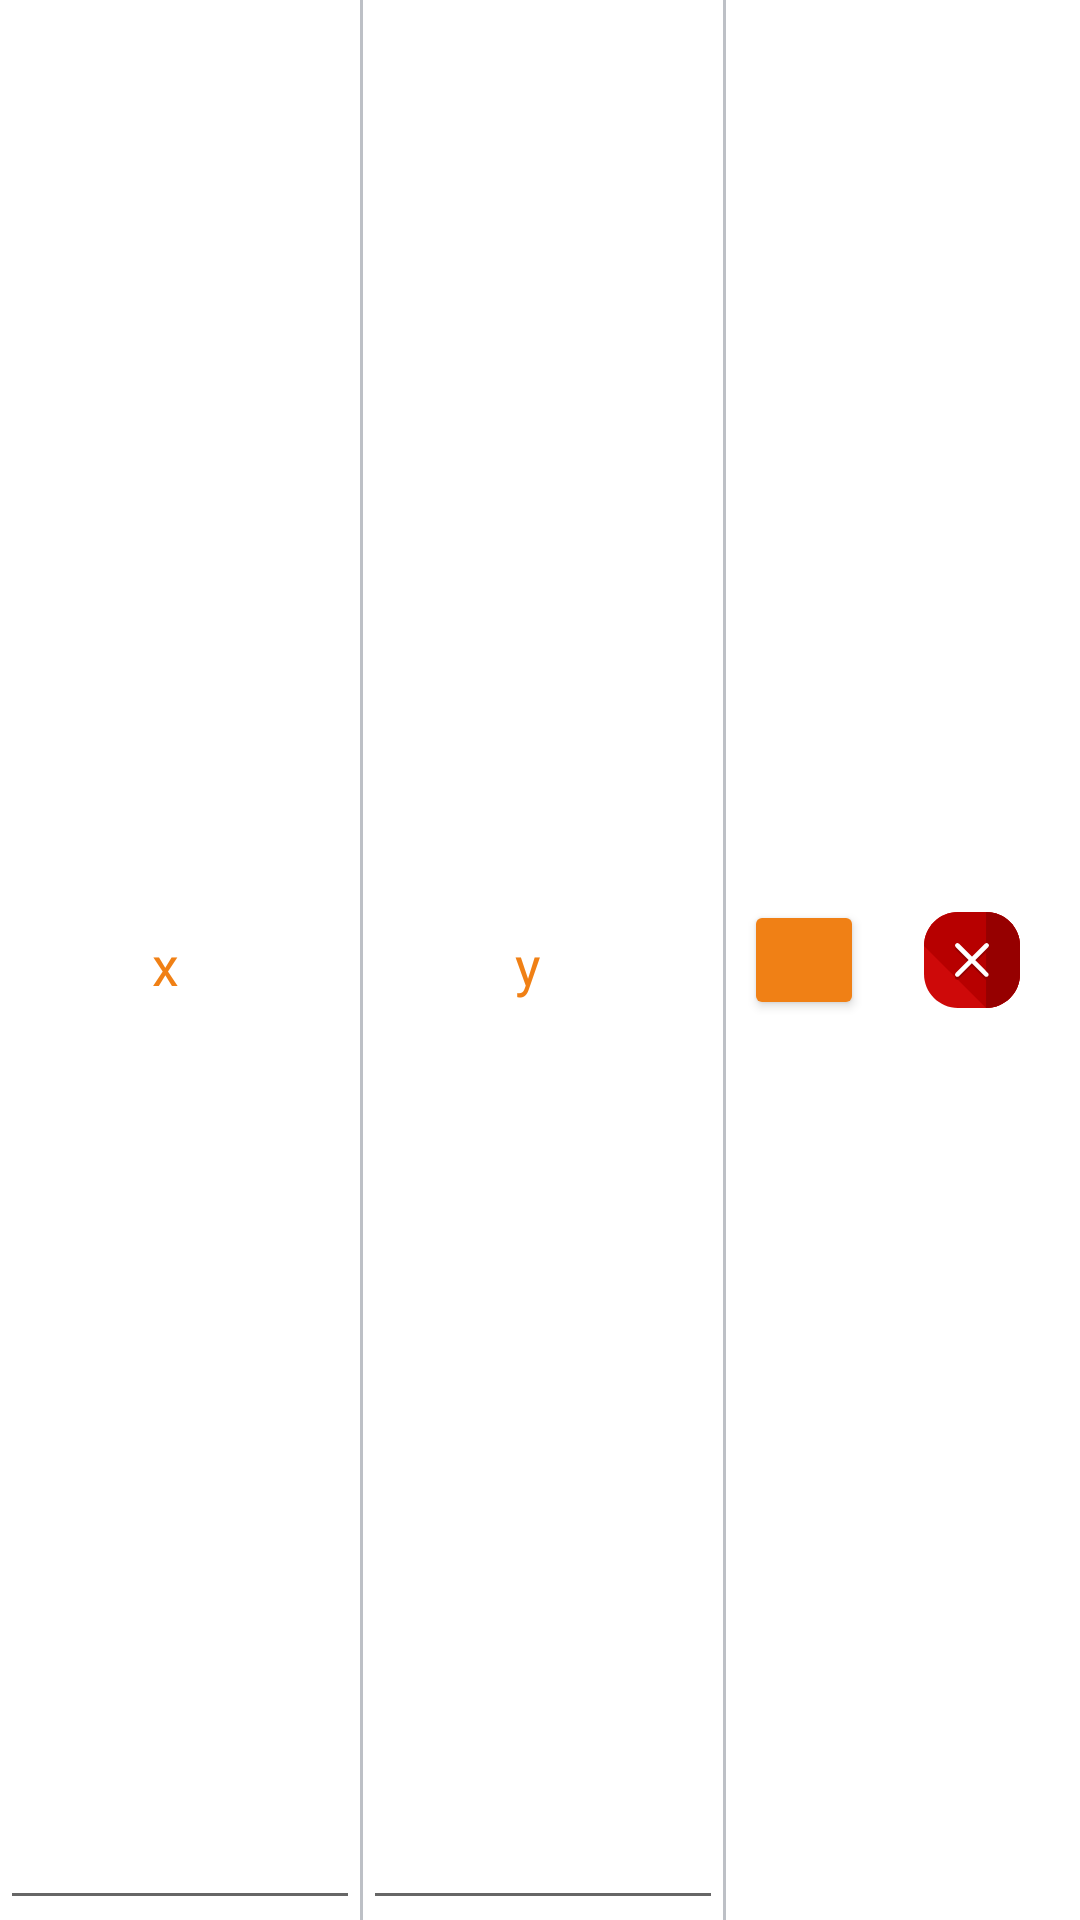

Icon bounding boxes for this 1080 × 1920 phone screenshot, format (x1, y1, x2, y2):
delete: (924, 912, 1020, 1008)
